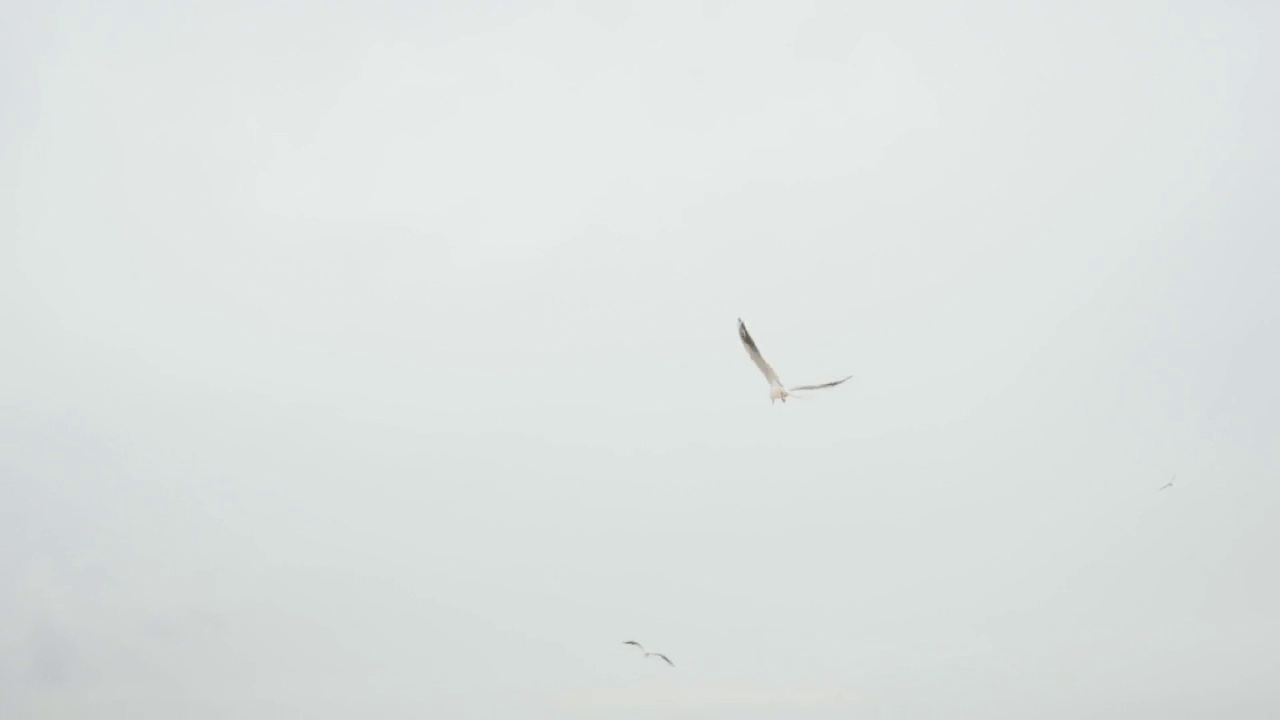bird: (739, 317, 854, 404), (622, 638, 670, 666)
